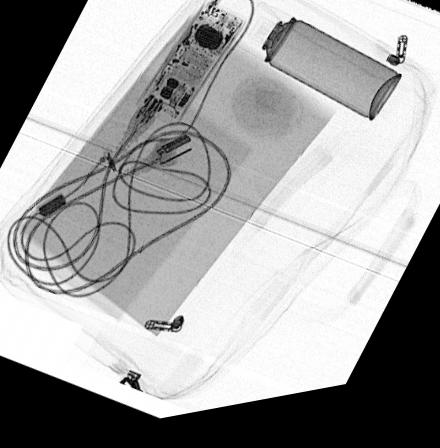Sprayer: (235, 6, 402, 135)
